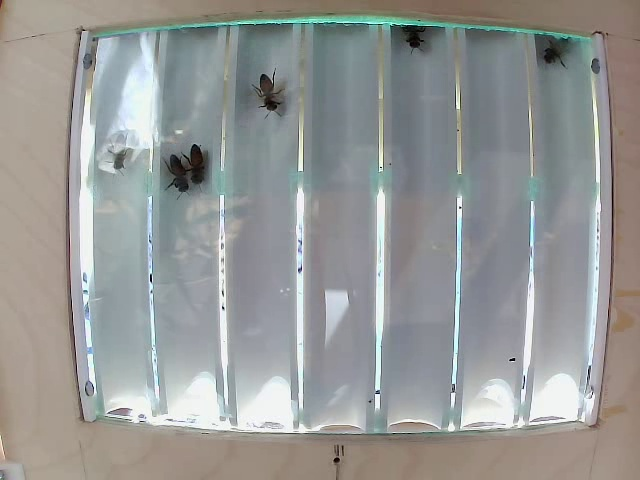bee: (246, 74, 291, 117), (186, 148, 220, 190), (163, 154, 191, 192)
